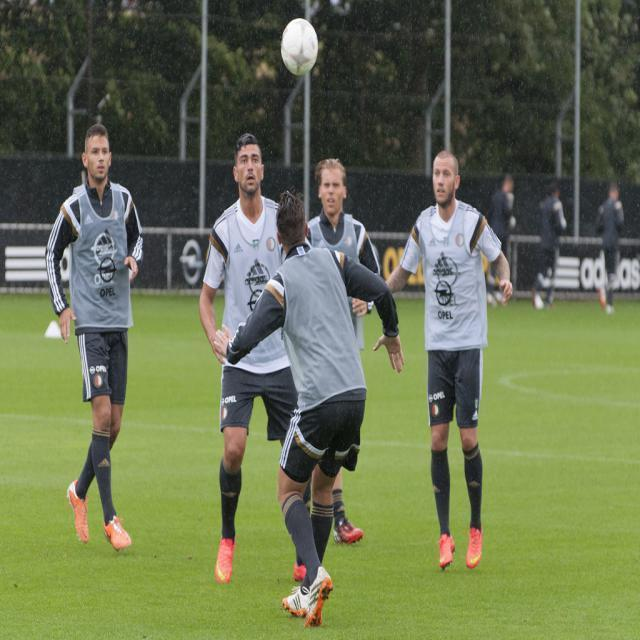Football: (279, 14, 322, 76)
